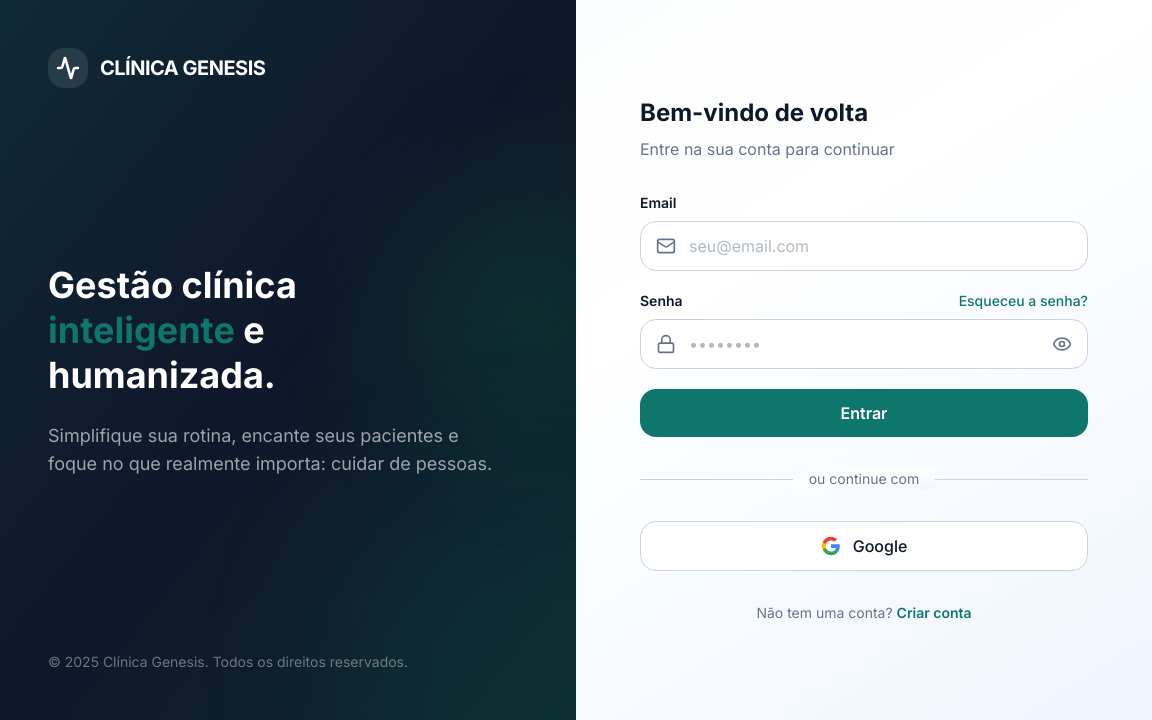
Test: Login › Google sign in › should handle Google sign in error
This screenshot has width=1152, height=720.
Click the button "Google" at (864, 546), box top-left (640, 521), bottom-right (1088, 571)
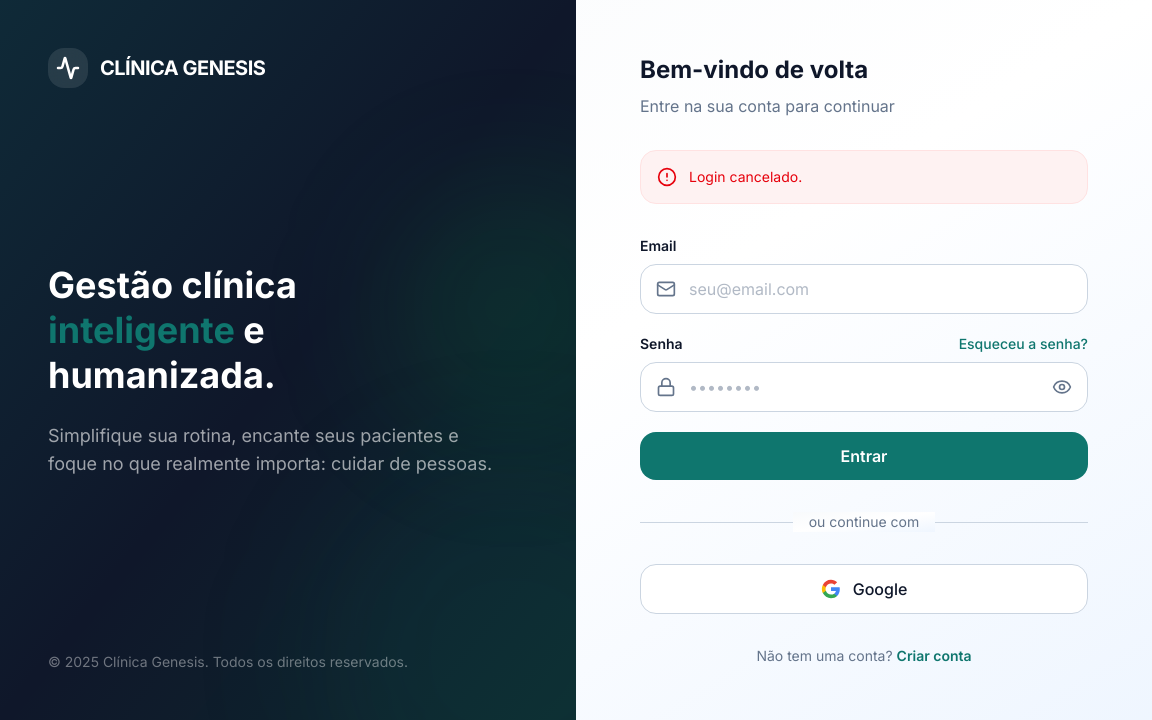
Now the text "Login cancelado." is shown, box top-left (689, 167), bottom-right (802, 187)
